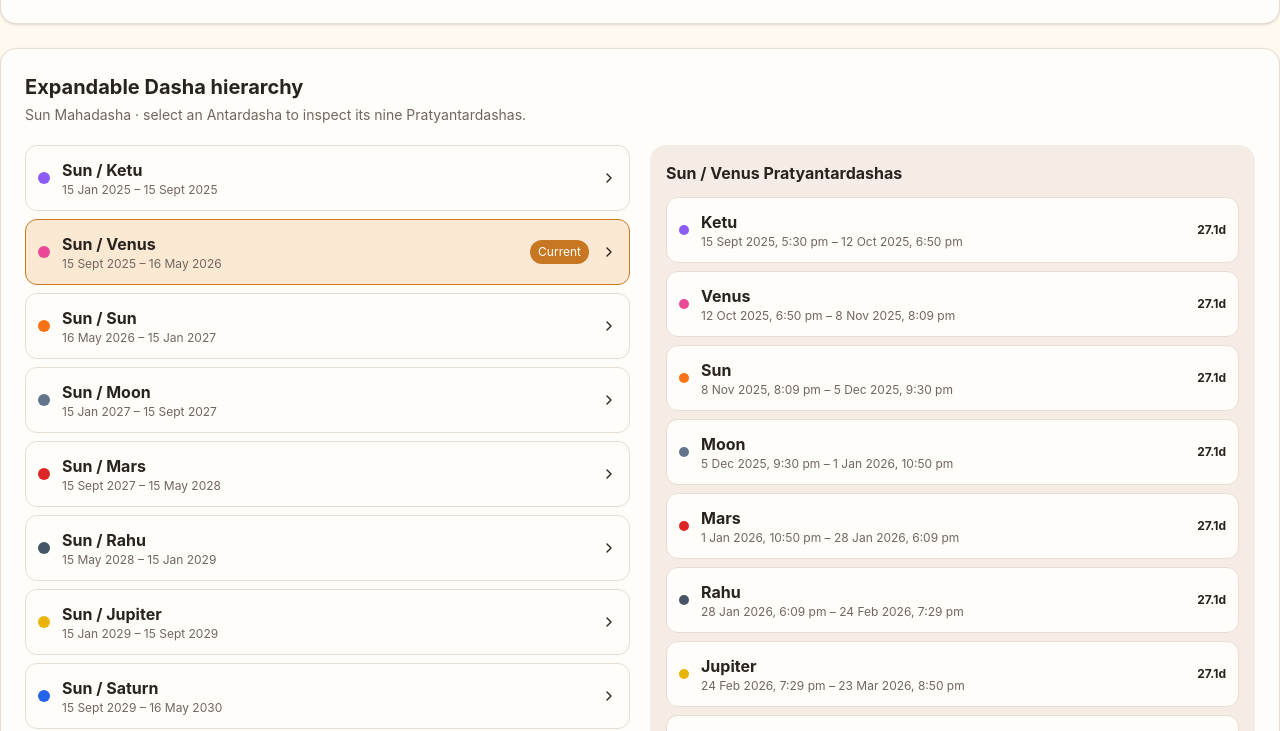
DashaPage › selects an Antardasha and renders nine Pratyantardashas
(page scrolled)
What coordinates should you click on to do the following:
click the button "Sun / Moon 15 Jan 2027 – 15 Sept 2027"
I would click on:
 (77, 392)
Its box is [25,367,630,433].
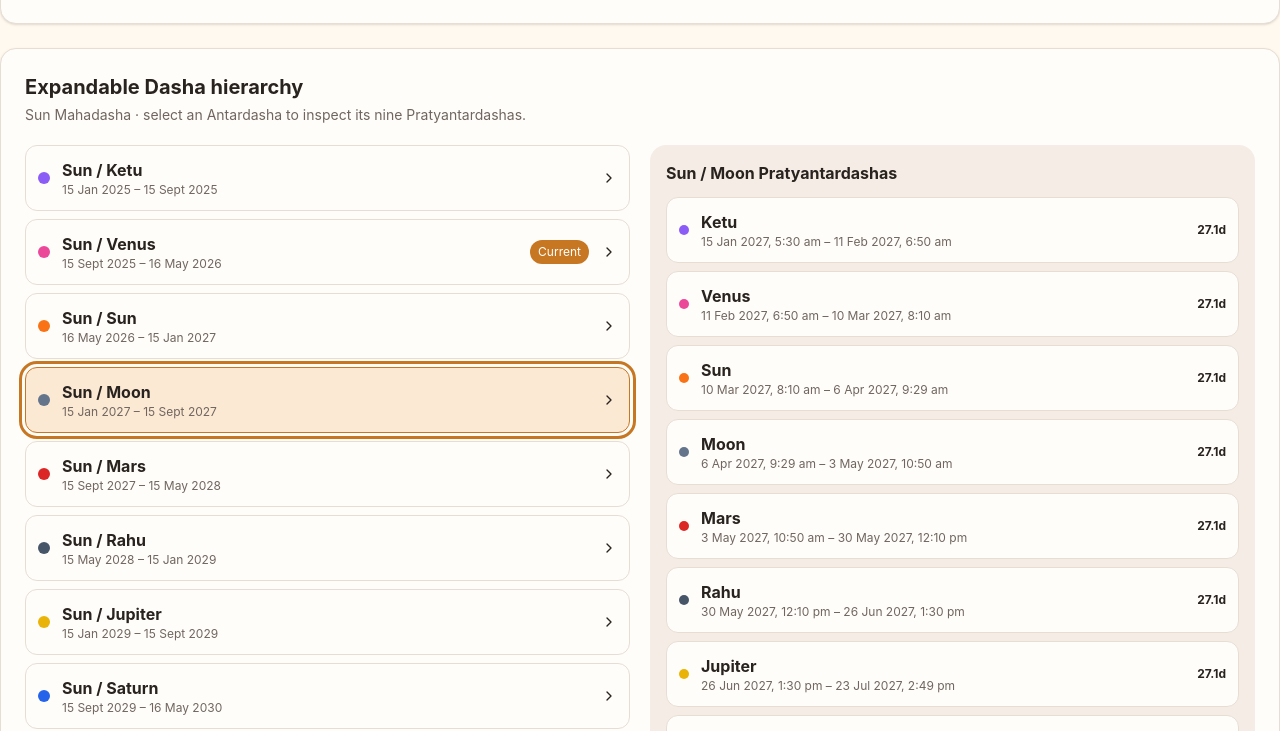
Now the heading "Sun / Moon Pratyantardashas" is shown, box [666,163,897,183]
